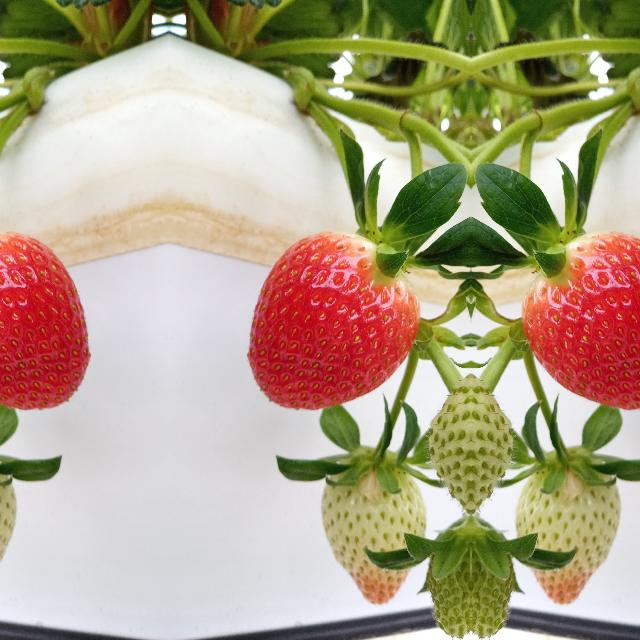Health_100: (245, 232, 419, 410), (522, 231, 640, 410), (0, 231, 91, 410)
Health_25: (430, 368, 470, 514), (471, 368, 511, 514), (471, 514, 512, 640), (430, 514, 470, 640)
Health_50: (306, 463, 422, 603), (520, 463, 634, 603), (0, 463, 29, 603)
